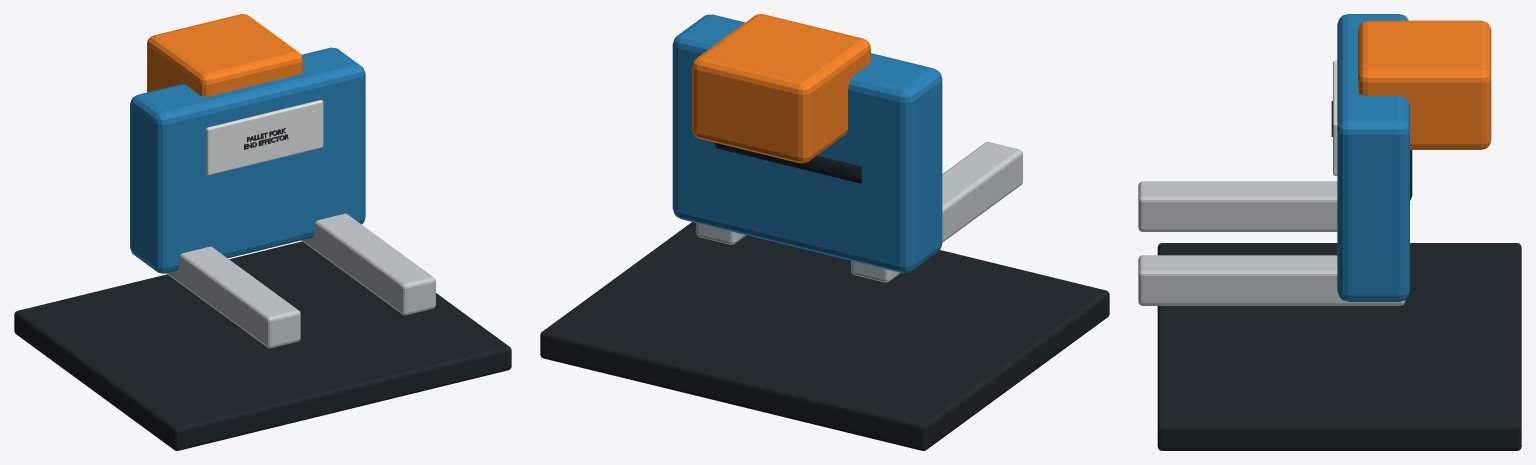
The model's file is robotic_pallet_fork.glb.
The picture shows the model from 3 angles, left to right: view 1: azimuth 30°, elevation 25°; view 2: azimuth 150°, elevation 25°; view 3: azimuth 270°, elevation 25°; orthographic projection. The views are drawn at different scales.
Visible parts, largest first — view 1: BASE, FORK_BACKPLATE, ROBOT_MOUNT, KIN_FORK_RIGHT, KIN_FORK_LEFT, NAMEPLATE; view 2: BASE, FORK_BACKPLATE, ROBOT_MOUNT, KIN_FORK_LEFT, FORK_SPACING_ACTUATOR, KIN_FORK_RIGHT; view 3: BASE, FORK_BACKPLATE, ROBOT_MOUNT, KIN_FORK_RIGHT, KIN_FORK_LEFT, NAMEPLATE.
Part boxes in pixels (left/top/right/bottom): BASE: left=14, top=241, right=511, bottom=450; FORK_BACKPLATE: left=130, top=47, right=365, bottom=273; ROBOT_MOUNT: left=147, top=14, right=303, bottom=96; KIN_FORK_RIGHT: left=301, top=213, right=435, bottom=315; KIN_FORK_LEFT: left=166, top=246, right=300, bottom=348; NAMEPLATE: left=206, top=100, right=323, bottom=175; BASE: left=540, top=222, right=1109, bottom=450; FORK_BACKPLATE: left=672, top=14, right=942, bottom=273; ROBOT_MOUNT: left=692, top=14, right=870, bottom=163; KIN_FORK_LEFT: left=851, top=142, right=1022, bottom=282; FORK_SPACING_ACTUATOR: left=715, top=142, right=861, bottom=183; KIN_FORK_RIGHT: left=696, top=223, right=745, bottom=244; BASE: left=1157, top=243, right=1521, bottom=450; FORK_BACKPLATE: left=1337, top=14, right=1409, bottom=301; ROBOT_MOUNT: left=1358, top=20, right=1491, bottom=149; KIN_FORK_RIGHT: left=1138, top=255, right=1405, bottom=305; KIN_FORK_LEFT: left=1138, top=181, right=1337, bottom=231; NAMEPLATE: left=1333, top=60, right=1337, bottom=175.
Size of the model in its own units: 1.8 by 1.43 by 1.58.
